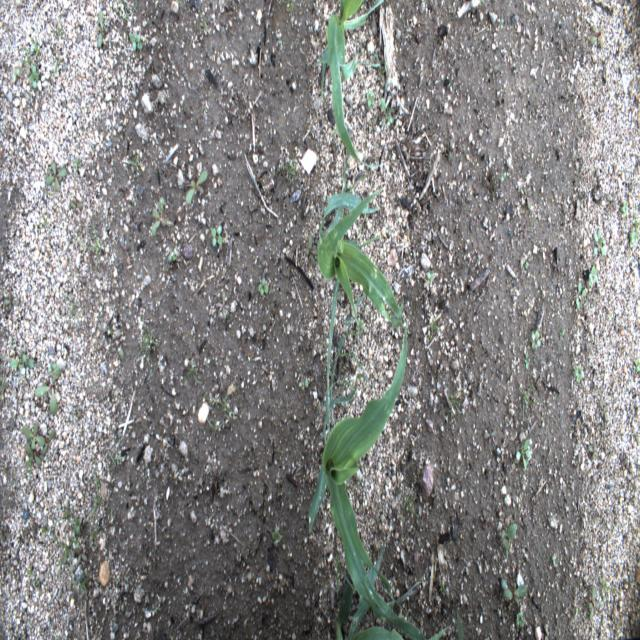crop: (306, 320, 428, 638), (317, 159, 406, 438), (314, 0, 388, 168), (336, 546, 448, 639)
weed: (34, 366, 64, 417), (137, 314, 160, 380), (206, 388, 230, 445), (151, 196, 172, 240), (501, 577, 526, 611), (91, 470, 107, 523), (447, 384, 466, 425), (186, 169, 208, 204), (8, 352, 33, 382), (46, 160, 68, 192), (522, 383, 540, 422), (513, 437, 532, 471), (22, 422, 45, 449), (500, 525, 518, 557), (587, 582, 601, 621), (303, 234, 318, 267), (186, 358, 203, 387), (592, 229, 607, 257), (590, 21, 604, 51), (576, 282, 588, 312), (128, 31, 144, 52), (73, 543, 88, 565), (97, 8, 104, 50), (530, 330, 541, 356), (270, 525, 282, 548), (210, 226, 222, 248), (257, 276, 270, 296), (572, 362, 584, 383), (29, 63, 38, 90), (587, 264, 598, 286), (168, 250, 178, 263)
